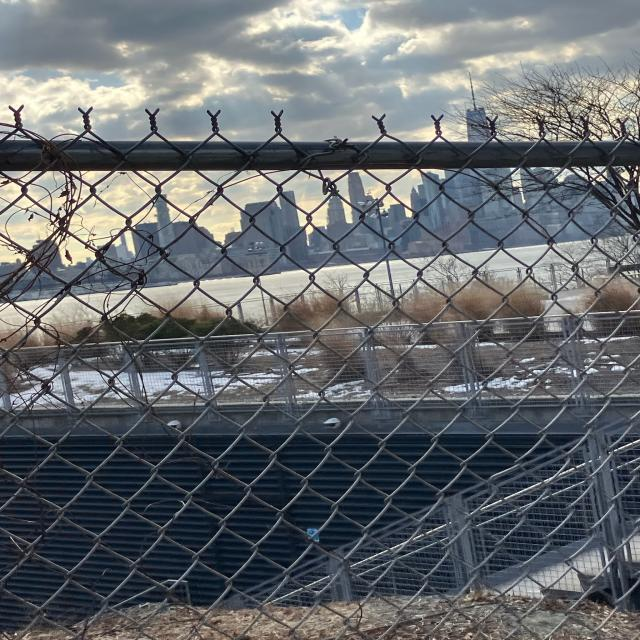WTC: (458, 71, 496, 141)
